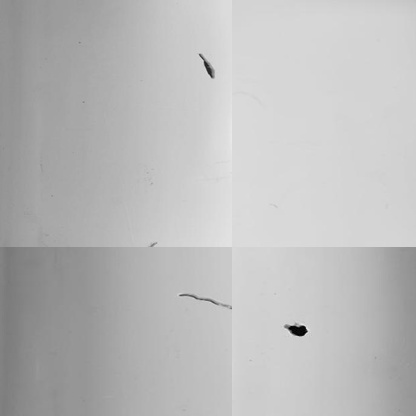fengxi: (173, 288, 228, 312)
kongdong: (278, 316, 307, 335), (198, 51, 215, 83)
